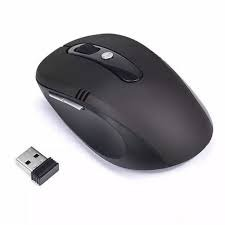mouse: (32, 29, 220, 173)
